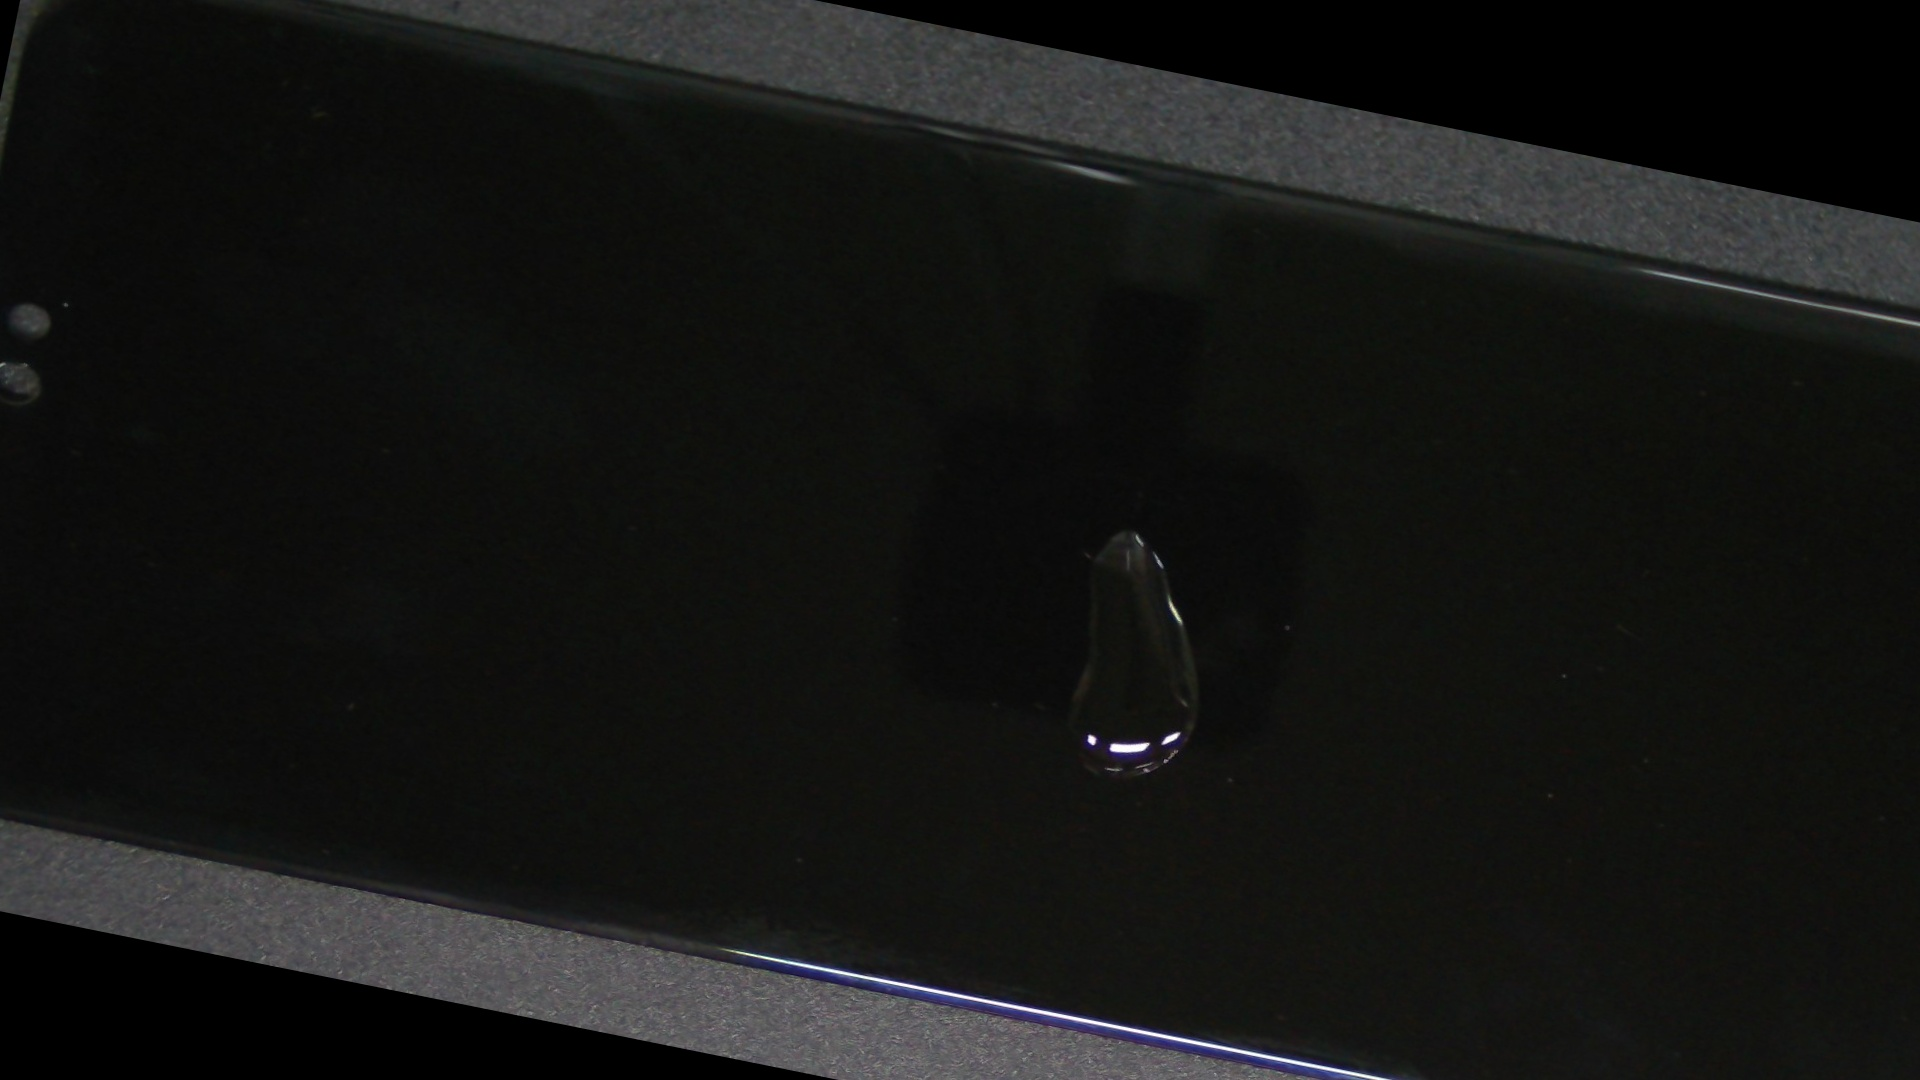oil: (500, 186, 1754, 869)
